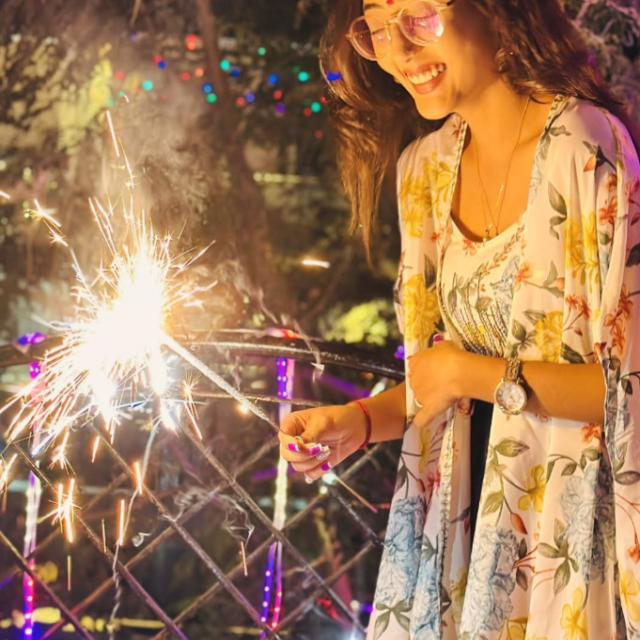fire: (0, 197, 216, 450)
